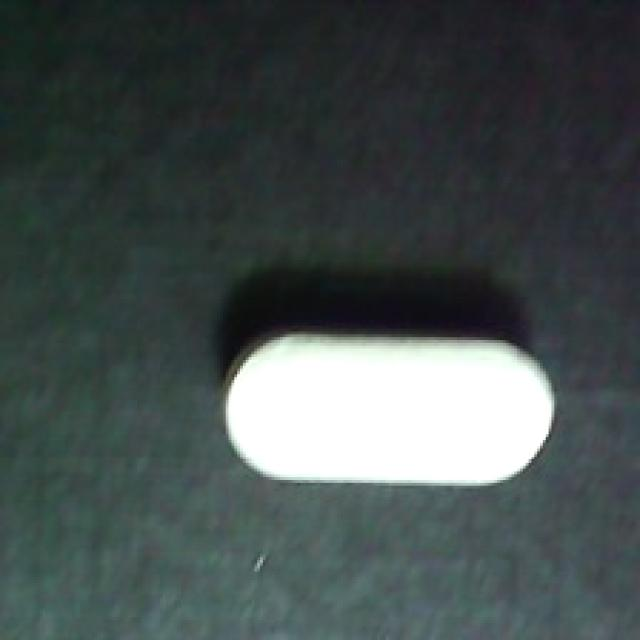no-defect: (217, 317, 560, 489)
